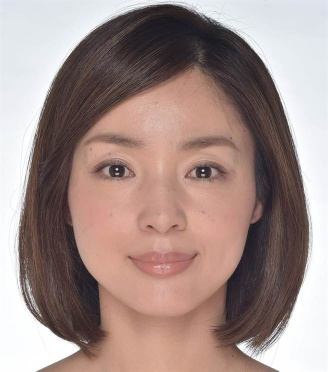female: (27, 2, 311, 353)
